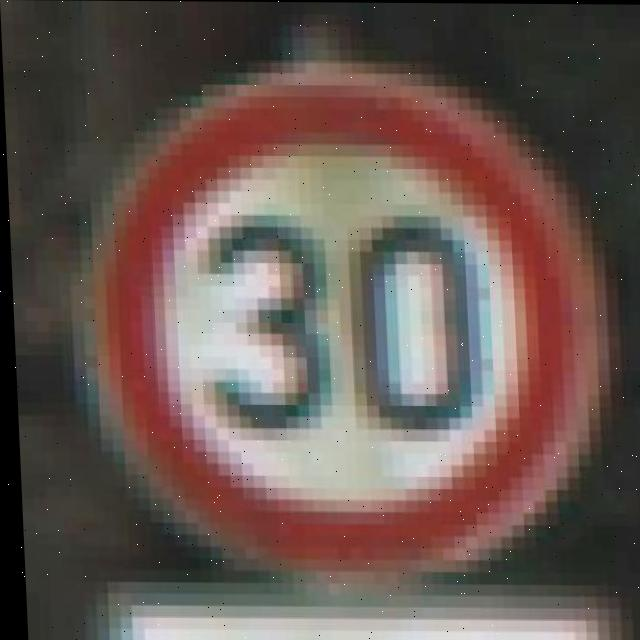Speed limit 30: (75, 46, 624, 583)
